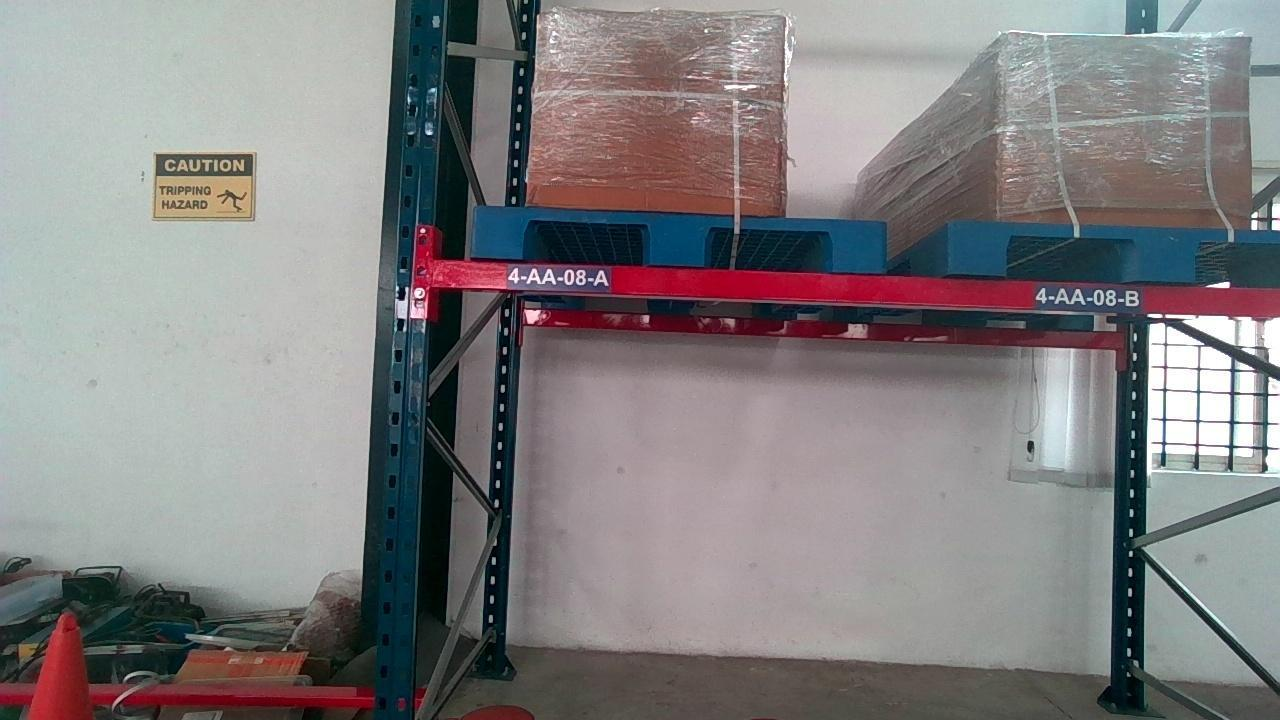h_rack: (434, 265, 1280, 312)
small_pallet: (468, 210, 885, 265), (943, 223, 1280, 281)
